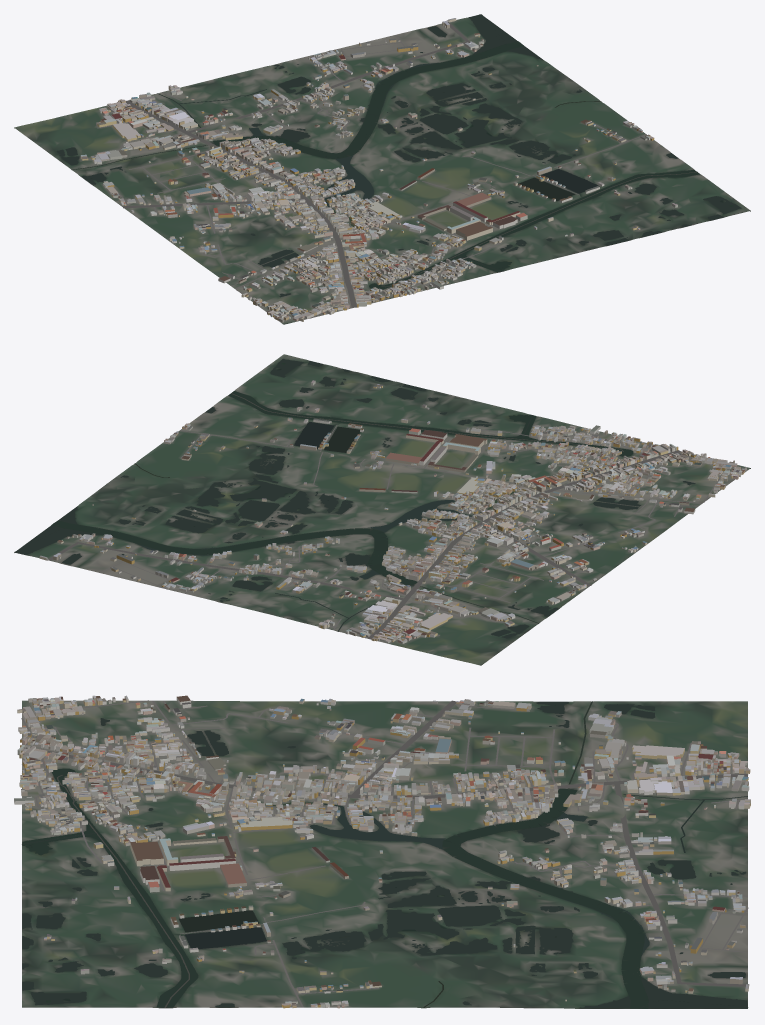
3 renders of one model, top to bottom at view 1: azimuth 30°, elevation 25°; view 2: azimuth 150°, elevation 25°; view 3: azimuth 270°, elevation 25°, orthographic. The views are drawn at different scales.
Parts seen in each view (by area): view 1: ground, buildings, water, roads; view 2: ground, buildings, water, roads; view 3: ground, buildings, water, roads.
Part boxes in pixels (box(x1,y1,x2,y2)): ground: box(14, 16, 750, 324); buildings: box(80, 18, 677, 322); water: box(56, 14, 741, 297); roads: box(94, 22, 646, 318); ground: box(14, 354, 750, 665); buildings: box(39, 380, 746, 643); water: box(14, 359, 695, 638); roads: box(48, 424, 721, 639); ground: box(22, 700, 747, 1008); buildings: box(14, 695, 750, 1008); water: box(22, 701, 748, 1008); roads: box(21, 700, 748, 1007).
Size of the model in its own units: 1414 by 22.61 by 1421.
